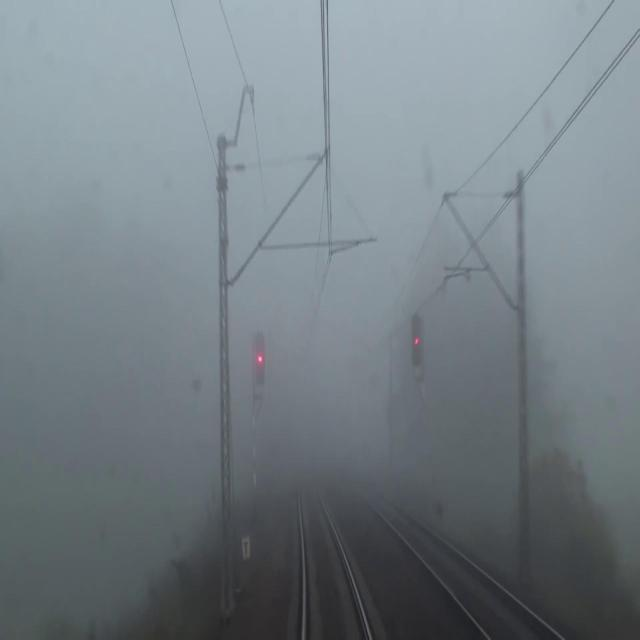rail-track: (371, 492, 554, 639), (302, 484, 366, 639)
